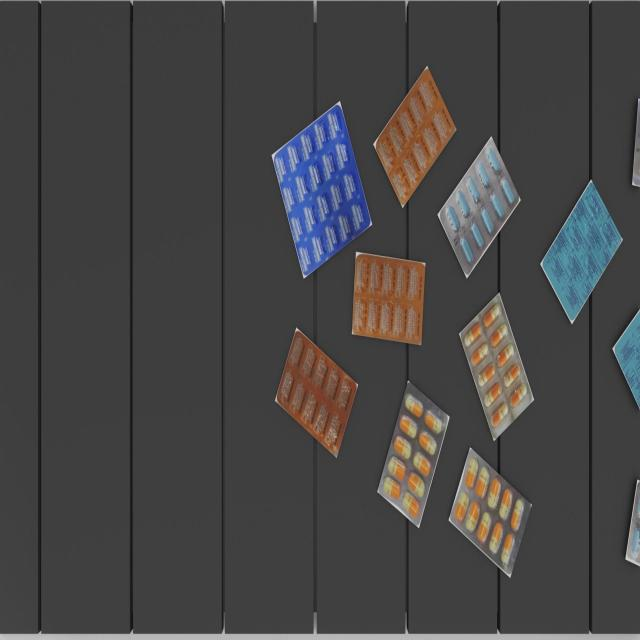blister: (271, 103, 371, 277), (538, 174, 623, 325), (369, 64, 455, 208), (375, 372, 449, 531), (437, 137, 517, 280), (458, 293, 534, 443), (276, 327, 357, 459), (451, 450, 530, 575), (350, 252, 427, 346)
